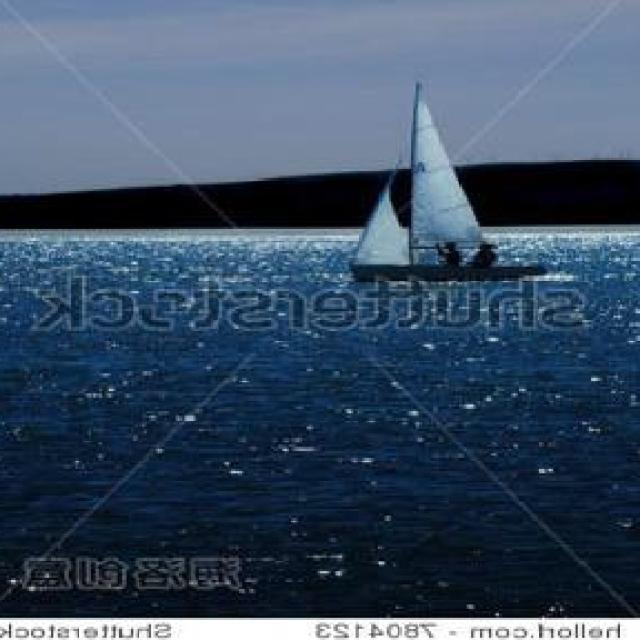sailboat: (350, 79, 553, 285)
